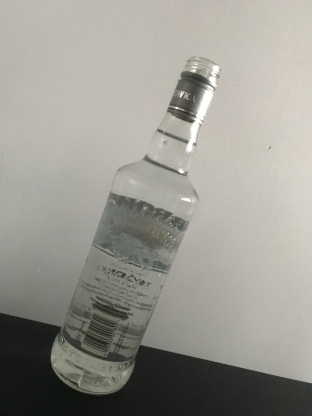nakretka: (165, 52, 221, 128)
